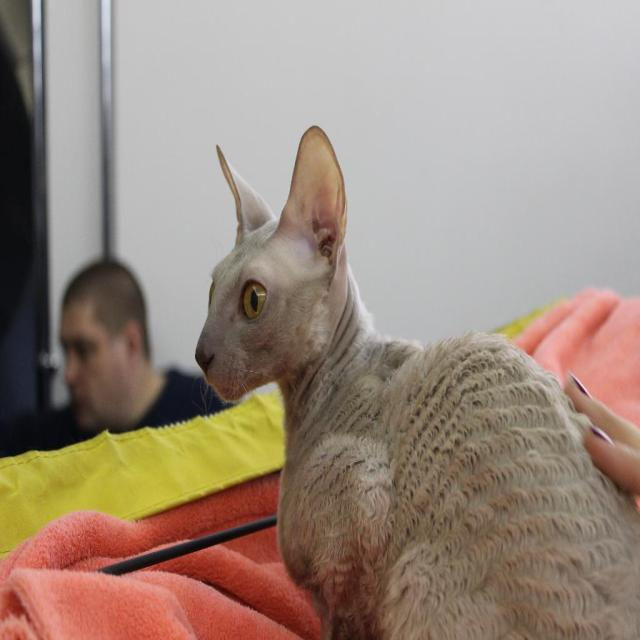Cat: (190, 125, 640, 639)
